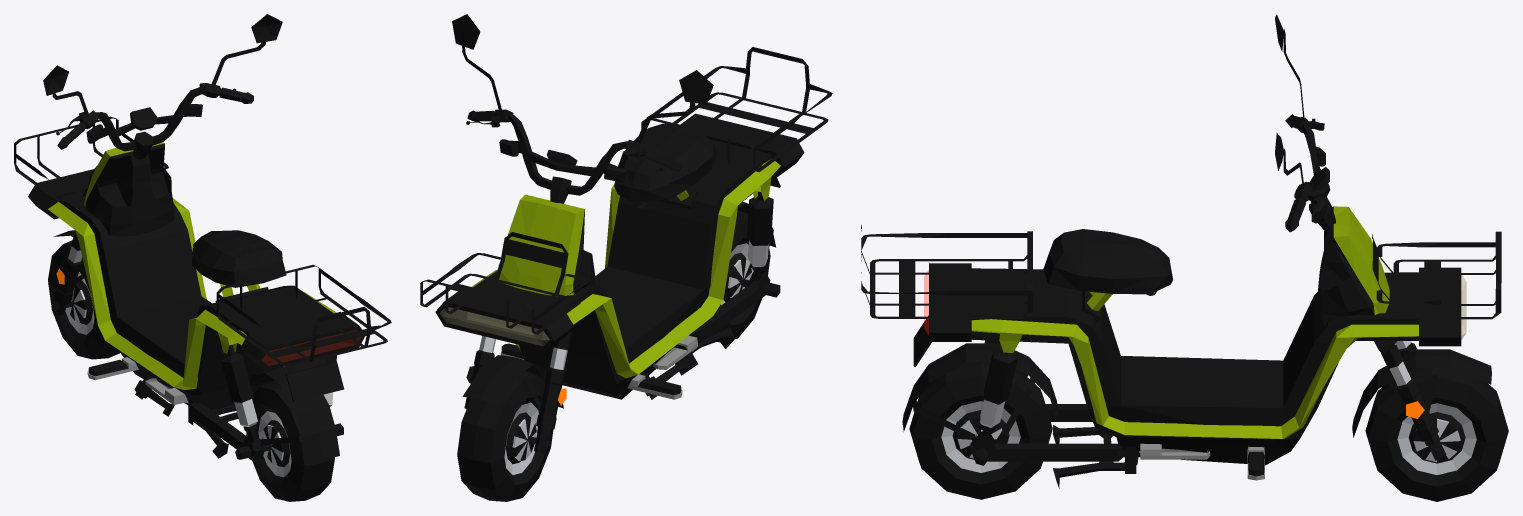
Rendered from deliveryev.glb.
3 views of the same model, side by side, from view 1: azimuth 30°, elevation 25°; view 2: azimuth 150°, elevation 25°; view 3: azimuth 270°, elevation 25° (orthographic). The views are drawn at different scales.
Visible parts, largest first — view 1: Cube_3, Cylinder.007_0, Cylinder.002_1, Cylinder.001_2; view 2: Cube_3, Cylinder.007_0, Cylinder.001_2, Cylinder.002_1; view 3: Cube_3, Cylinder.001_2, Cylinder.002_1, Cylinder.007_0.
Boxes of the visible parts, x1,y1,x2,y2 form: Cube_3: (14,116,391,463); Cylinder.007_0: (43,14,282,315); Cylinder.002_1: (246,380,334,501); Cylinder.001_2: (48,240,120,359); Cube_3: (420,47,832,399); Cylinder.007_0: (452,14,713,453); Cylinder.001_2: (457,370,553,501); Cylinder.002_1: (714,210,770,342); Cube_3: (861,206,1501,488); Cylinder.001_2: (1365,368,1508,501); Cylinder.002_1: (909,362,1052,499); Cylinder.007_0: (1275,14,1491,460).
Bounding box in the file's own units: 0.8114 × 1.18 × 1.64.
